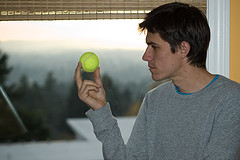tennis ball: (76, 51, 104, 74)
